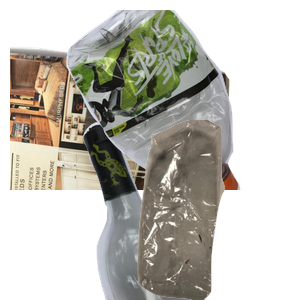glass: (81, 120, 300, 300)
paper: (10, 44, 232, 224)
plastic: (64, 10, 300, 190)
trash: (114, 120, 300, 300)
